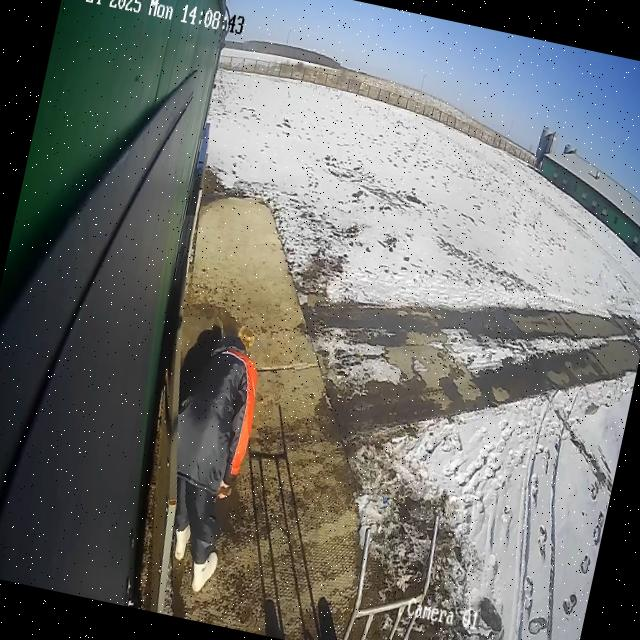Red uniform: (173, 327, 256, 592)
